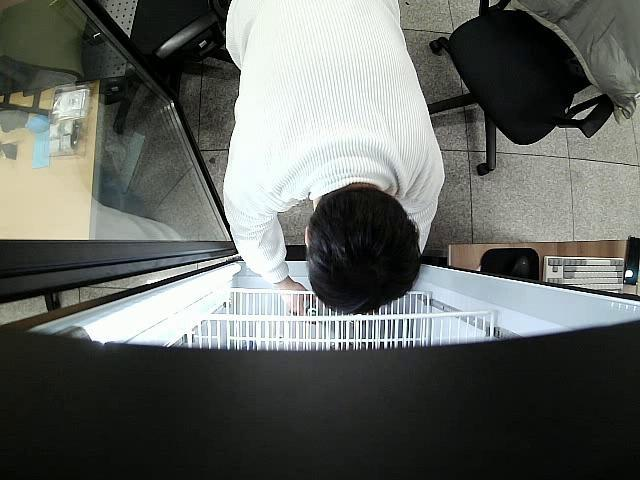18_trevi: (306, 305, 318, 319)
